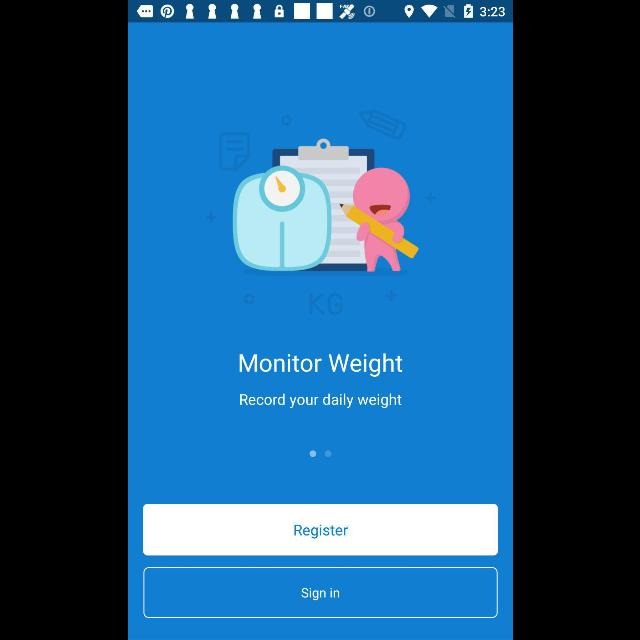image: (204, 108, 434, 314)
pageindicator: (308, 450, 332, 458)
text: (240, 354, 402, 376), (239, 393, 401, 409)
textbutton: (142, 504, 498, 556), (143, 568, 497, 618)
uppertaskbar: (128, 1, 512, 23)
